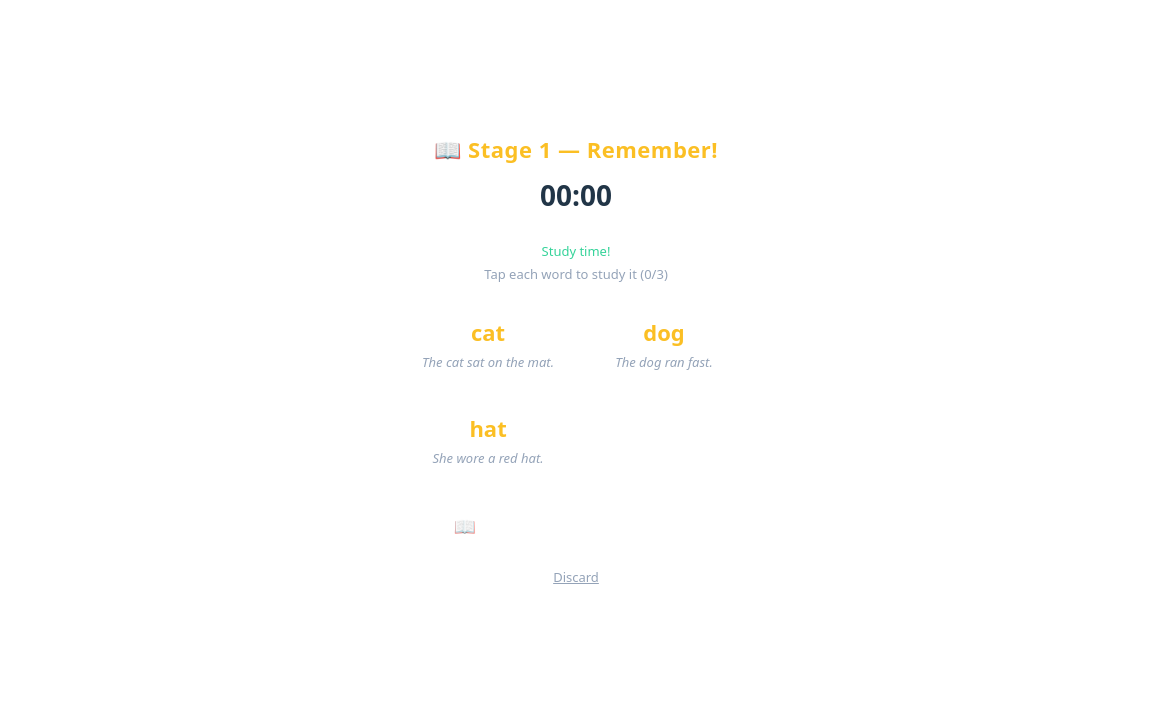
Test: Stage1Screen word-click validation › enables the ready button after all words are read via countdown
The width and height of the screenshot is (1152, 720).
Later steps or results of the test are not shown.
What coordinates should you click on to do the following:
click the text "cat"
I would click on:
 (488, 344)
Its box is x1=405 y1=300 x2=571 y2=387.
Wait 3000 ms
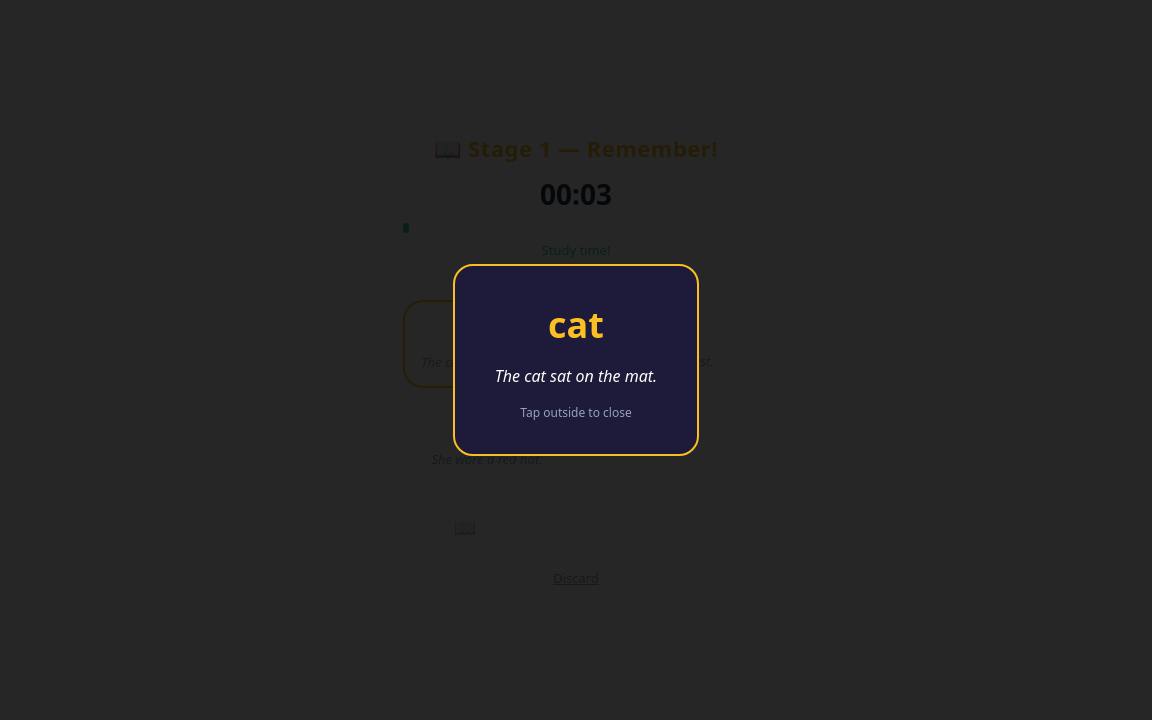
What coordinates should you click on to do the following:
click the element with test id "floating-overlay"
I would click on:
 (69, 360)
Its box is x1=0 y1=0 x2=1151 y2=719.
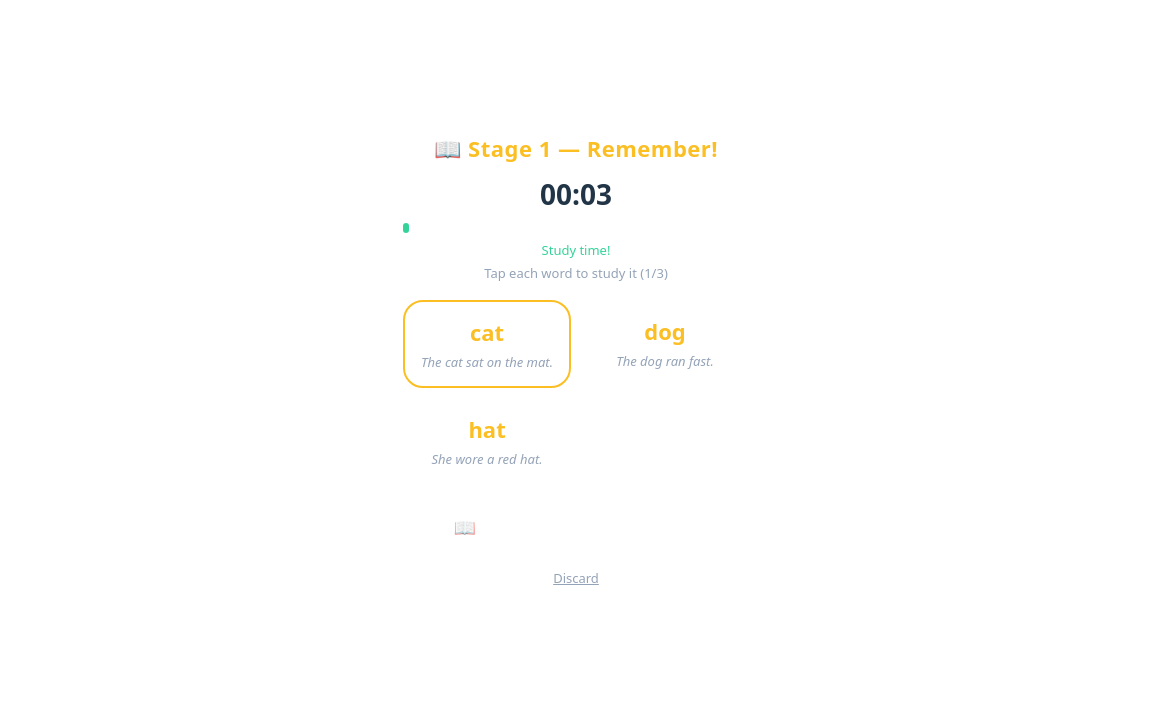
What coordinates should you click on to do the following:
click the text "dog"
I would click on:
 (665, 344)
Its box is x1=581 y1=300 x2=749 y2=388.
Wait 3000 ms
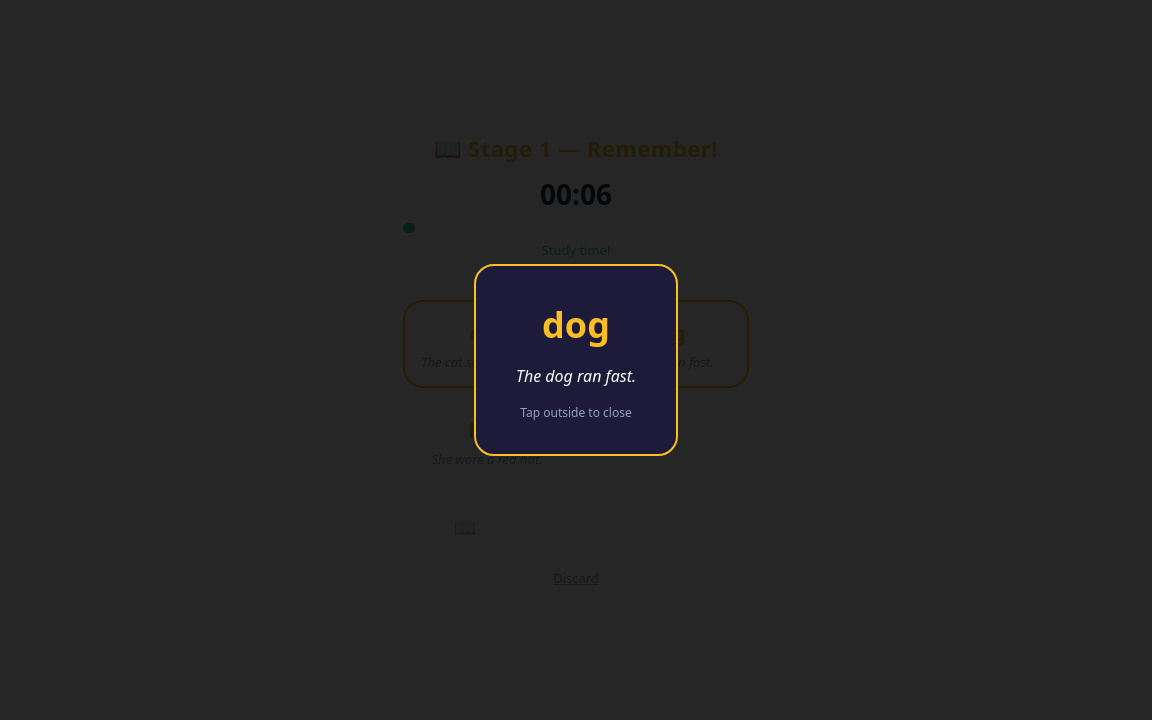
What coordinates should you click on to do the following:
click the element with test id "floating-overlay"
I would click on:
 (69, 360)
Its box is x1=0 y1=0 x2=1151 y2=719.
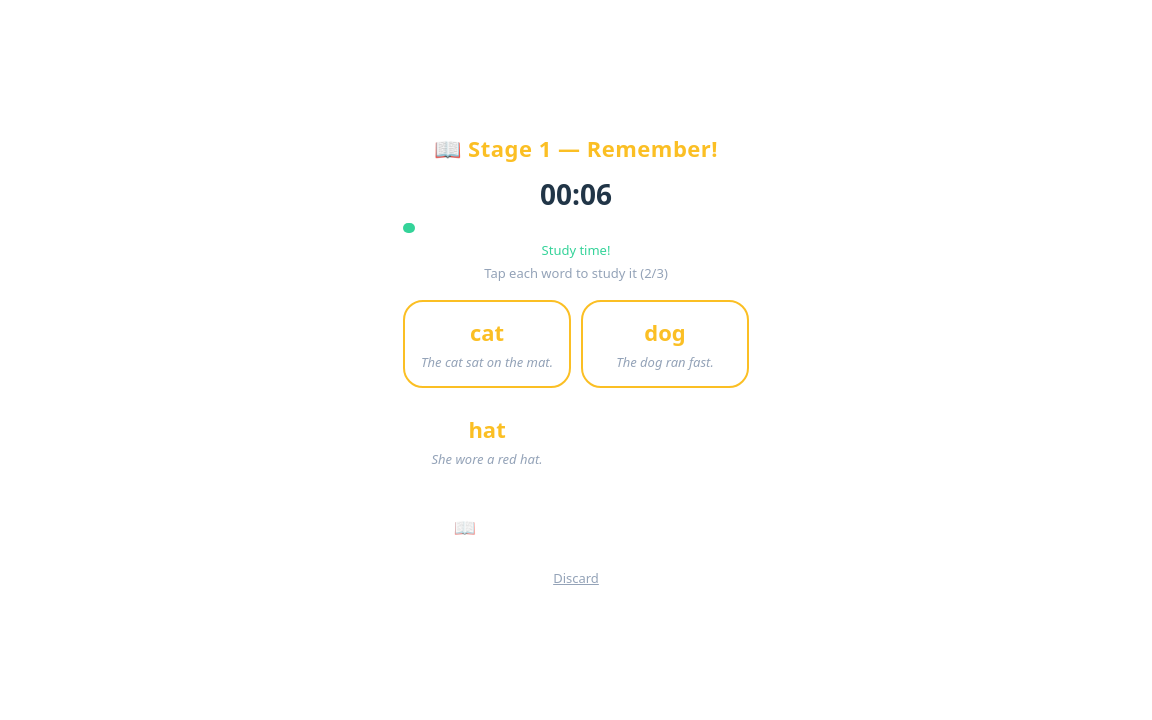
What coordinates should you click on to do the following:
click the text "hat"
I would click on:
 (487, 441)
Its box is x1=403 y1=398 x2=571 y2=484.
Wait 3000 ms
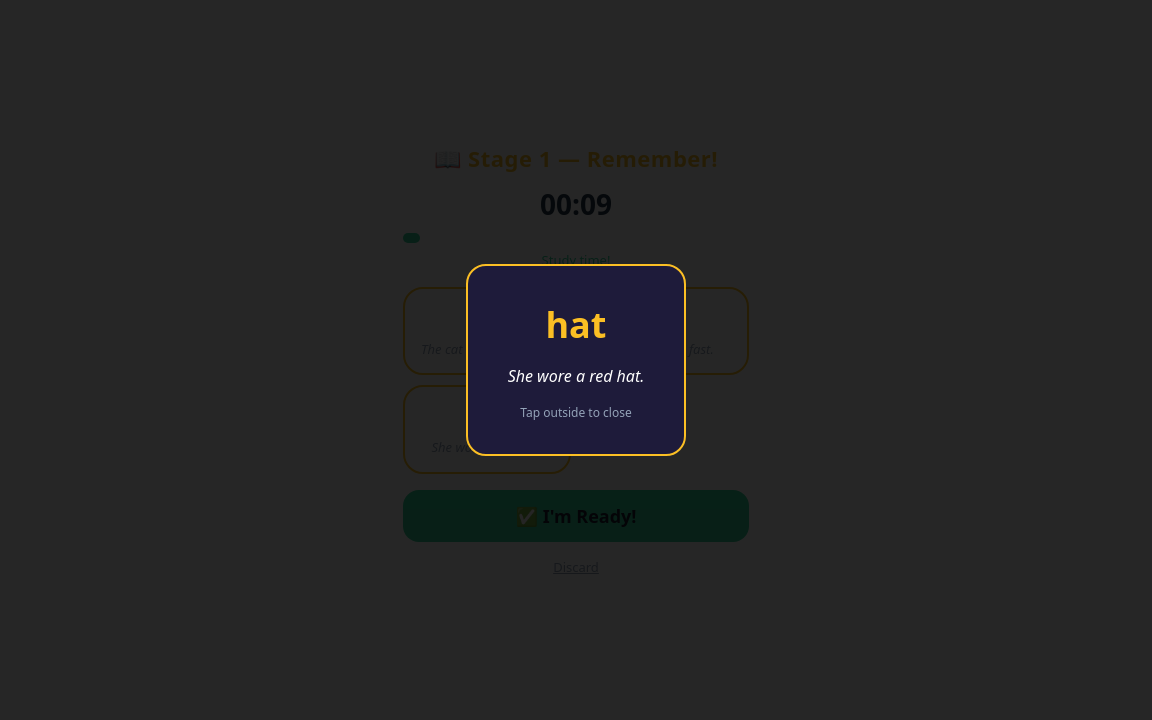
What coordinates should you click on to do the following:
click the element with test id "floating-overlay"
I would click on:
 (69, 360)
Its box is x1=0 y1=0 x2=1151 y2=719.
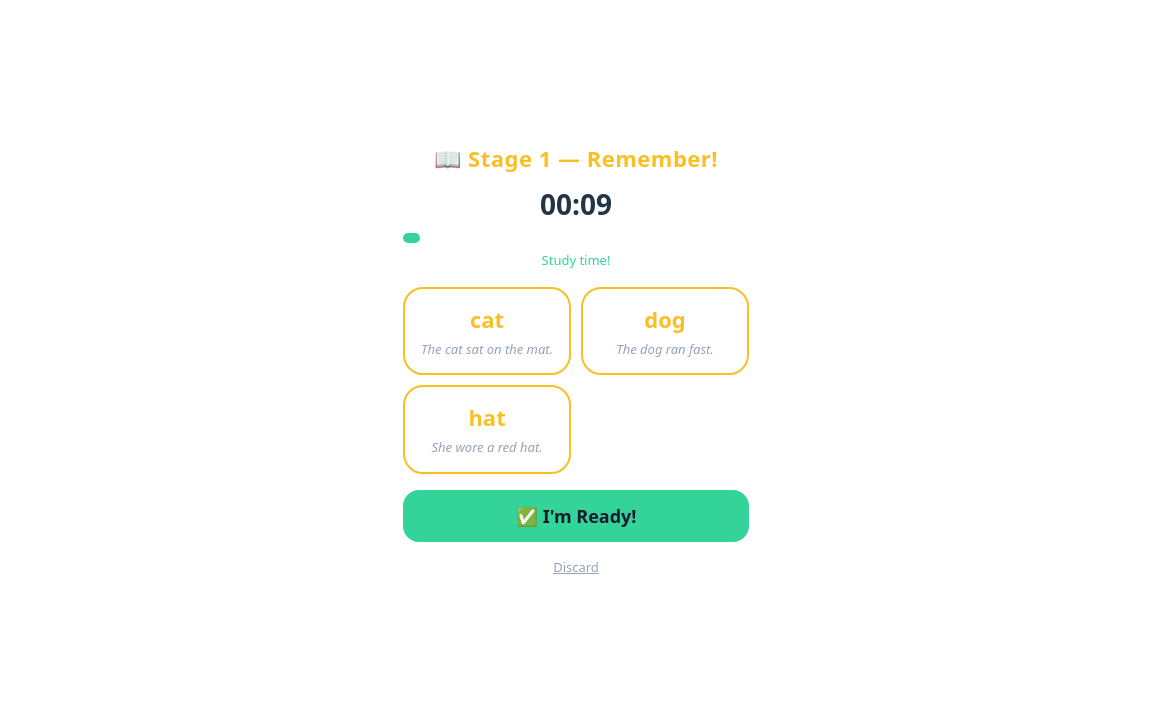
expect the button with test id "ready-button" is enabled: met, box x1=403 y1=490 x2=749 y2=542
expect the button with test id "ready-button" shows "I'm Ready!": met, box x1=403 y1=490 x2=749 y2=542
